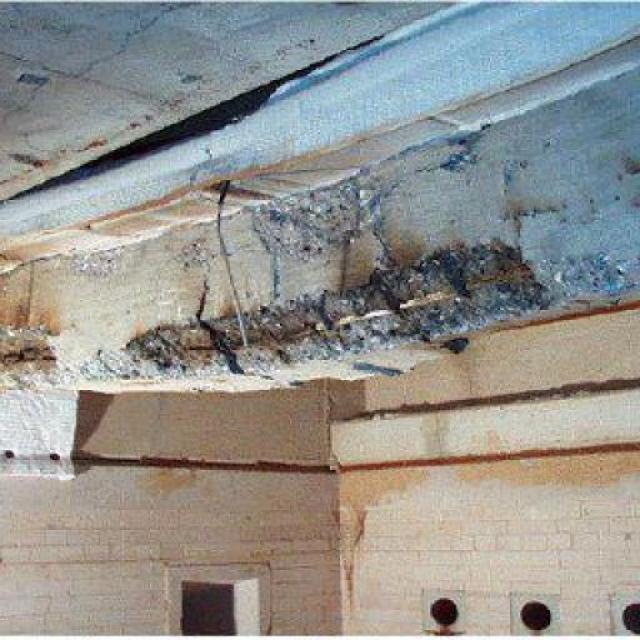D0w0: (121, 240, 550, 376)
